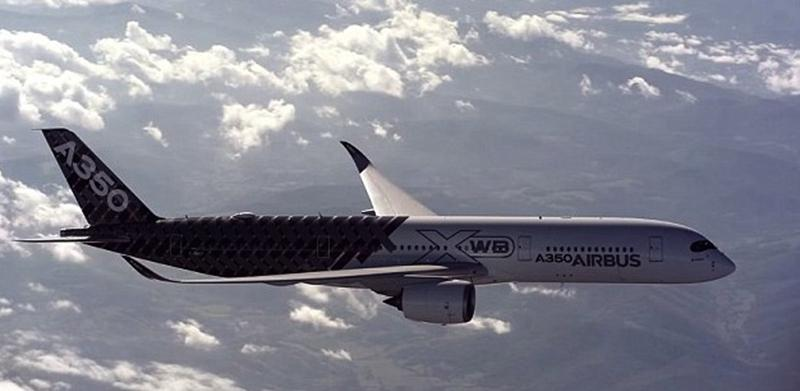airplane: (24, 121, 739, 325)
